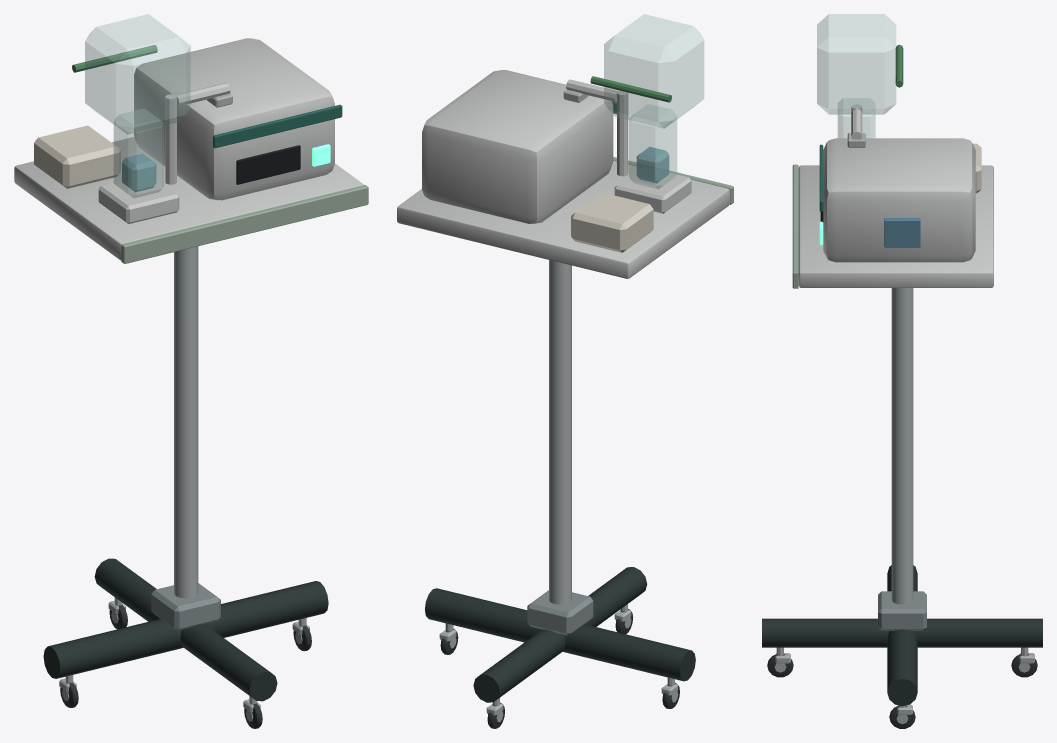
Rendered from nebulizer.glb.
3 views of the same model, side by side, from view 1: azimuth 30°, elevation 25°; view 2: azimuth 150°, elevation 25°; view 3: azimuth 270°, elevation 25° (orthographic). The views are drawn at different scales.
Visible parts, largest first — view 1: nebulizer; view 2: nebulizer; view 3: nebulizer.
Boxes of the visible parts, x1,y1,x2,y2 form: nebulizer: (14,14,368,728); nebulizer: (397,14,733,728); nebulizer: (762,14,1042,728).
Bounding box in the file's own units: 0.46 × 1.12 × 0.46.
